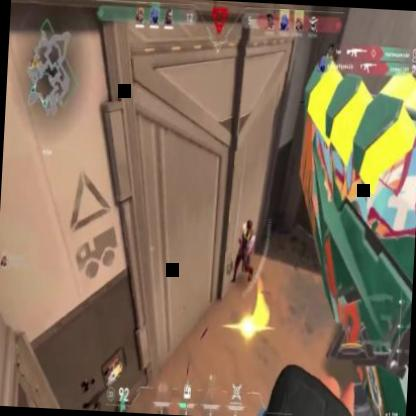enemy: (230, 212, 258, 286)
enemy_head: (245, 218, 252, 235)
